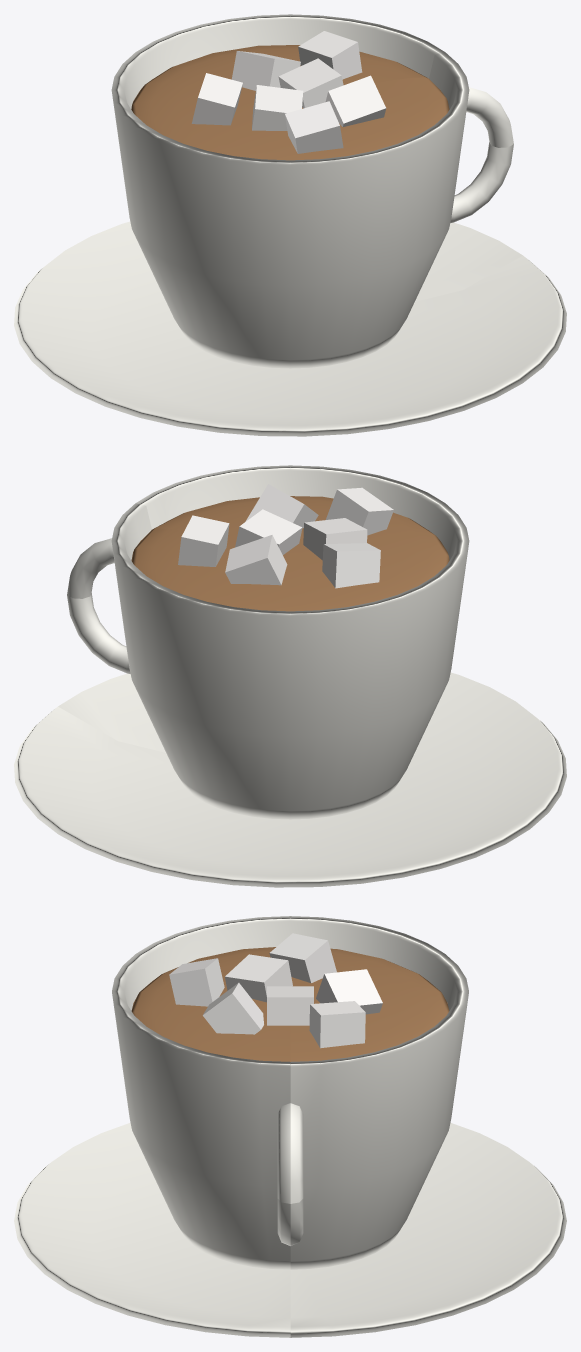
File: hot-chocolate.glb
3 views of the same model, one above another, from view 1: azimuth 30°, elevation 25°; view 2: azimuth 150°, elevation 25°; view 3: azimuth 270°, elevation 25° (orthographic).
Parts seen in each view (by area): view 1: hot-chocolate; view 2: hot-chocolate; view 3: hot-chocolate.
Boxes of the visible parts, x1=… form: hot-chocolate: x1=14, y1=14, x2=566, y2=436; hot-chocolate: x1=14, y1=465, x2=566, y2=887; hot-chocolate: x1=14, y1=916, x2=566, y2=1337.
Size of the model in its own units: 0.13 by 0.072 by 0.13.
